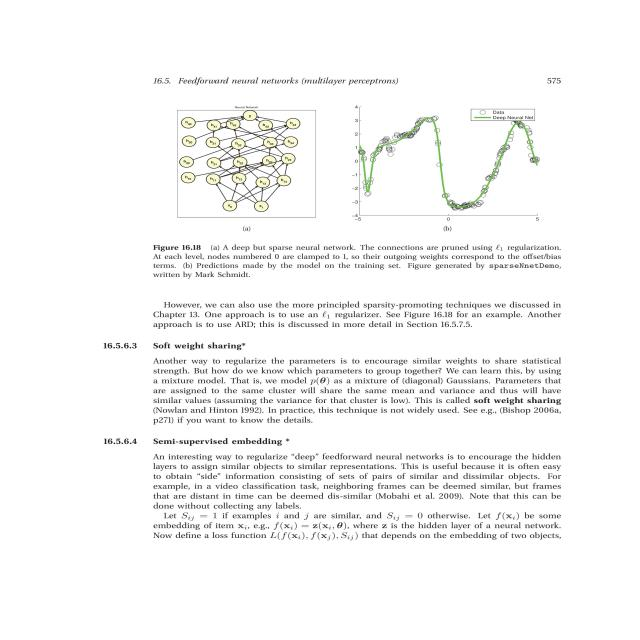diagram: (126, 83, 640, 291)
